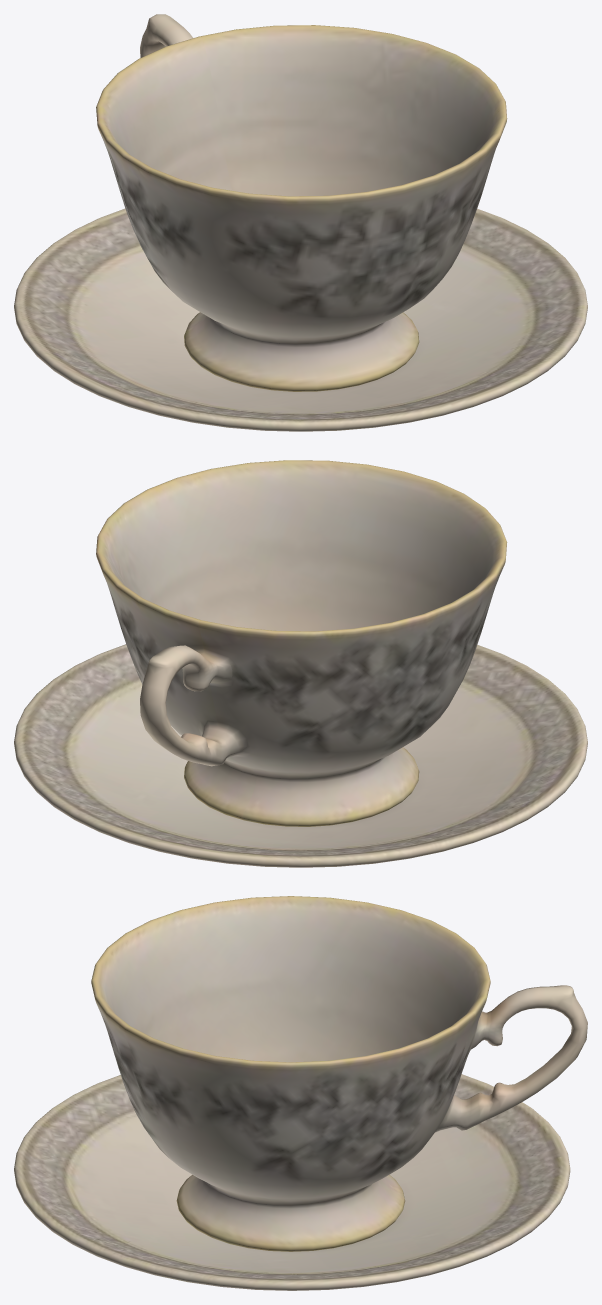
The model's file is teacup.glb.
3 views of the same model, one above another, from view 1: azimuth 30°, elevation 25°; view 2: azimuth 150°, elevation 25°; view 3: azimuth 270°, elevation 25° (orthographic). The views are drawn at different scales.
Visible parts, largest first — view 1: tea_set_01_cup_small_01, tea_set_01_saucer_circular_04; view 2: tea_set_01_cup_small_01, tea_set_01_saucer_circular_04; view 3: tea_set_01_cup_small_01, tea_set_01_saucer_circular_04.
Part boxes in pixels (<box>): tea_set_01_cup_small_01: <box>96,14,507,391</box>; tea_set_01_saucer_circular_04: <box>14,208,587,431</box>; tea_set_01_cup_small_01: <box>96,460,507,826</box>; tea_set_01_saucer_circular_04: <box>14,644,587,867</box>; tea_set_01_cup_small_01: <box>91,896,587,1251</box>; tea_set_01_saucer_circular_04: <box>14,1074,570,1290</box>.
Bounding box in the file's own units: 0.149 × 0.0709 × 0.1536.
1 material, 1 textured.
